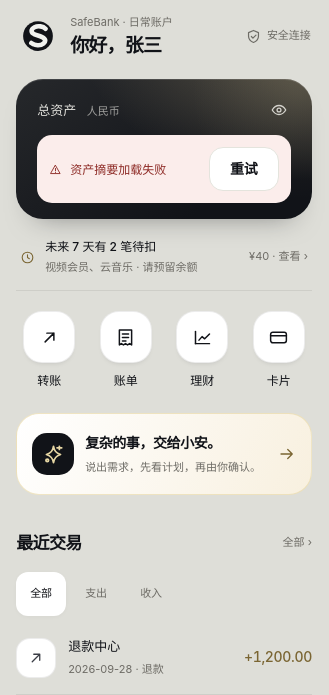
Test: 首页聚合 › 单模块失败只影响该模块，并可重试
Check: the text "资产摘要加载失败" is shown, box [70,162,166,177]
Click the button "重试" at [244, 169], box [209,147,279,191]
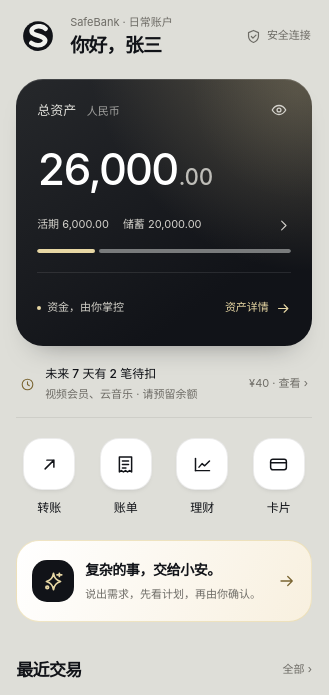
Check: the element with test id "home-total" reads "26,000.00", box [37,142,213,196]
